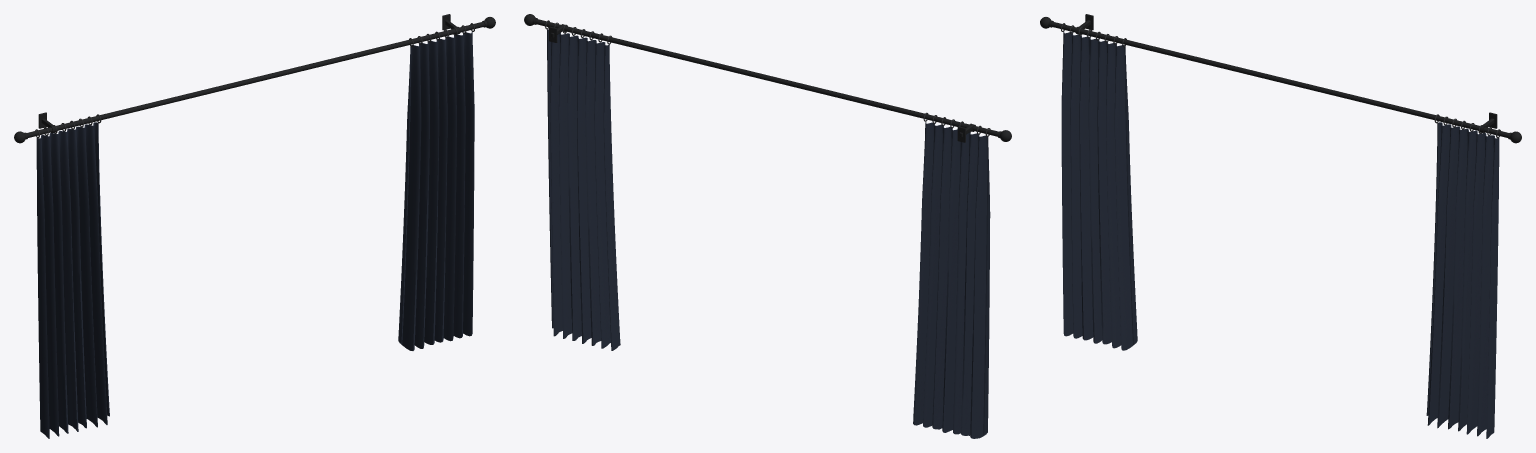
The model's file is SM_Curtains.glb.
The picture shows the model from 3 angles, left to right: view 1: azimuth 30°, elevation 25°; view 2: azimuth 150°, elevation 25°; view 3: azimuth 330°, elevation 25°; orthographic projection.
Visible parts, largest first — view 1: SM_Curtains; view 2: SM_Curtains; view 3: SM_Curtains.
Boxes of the visible parts, x1=… form: SM_Curtains: x1=14, y1=14, x2=495, y2=438; SM_Curtains: x1=524, y1=14, x2=1011, y2=438; SM_Curtains: x1=1040, y1=14, x2=1521, y2=438.
Bounding box in the file's own units: 2.43 × 1.51 × 0.1529.
Materials: 3 (3 with a texture image).
